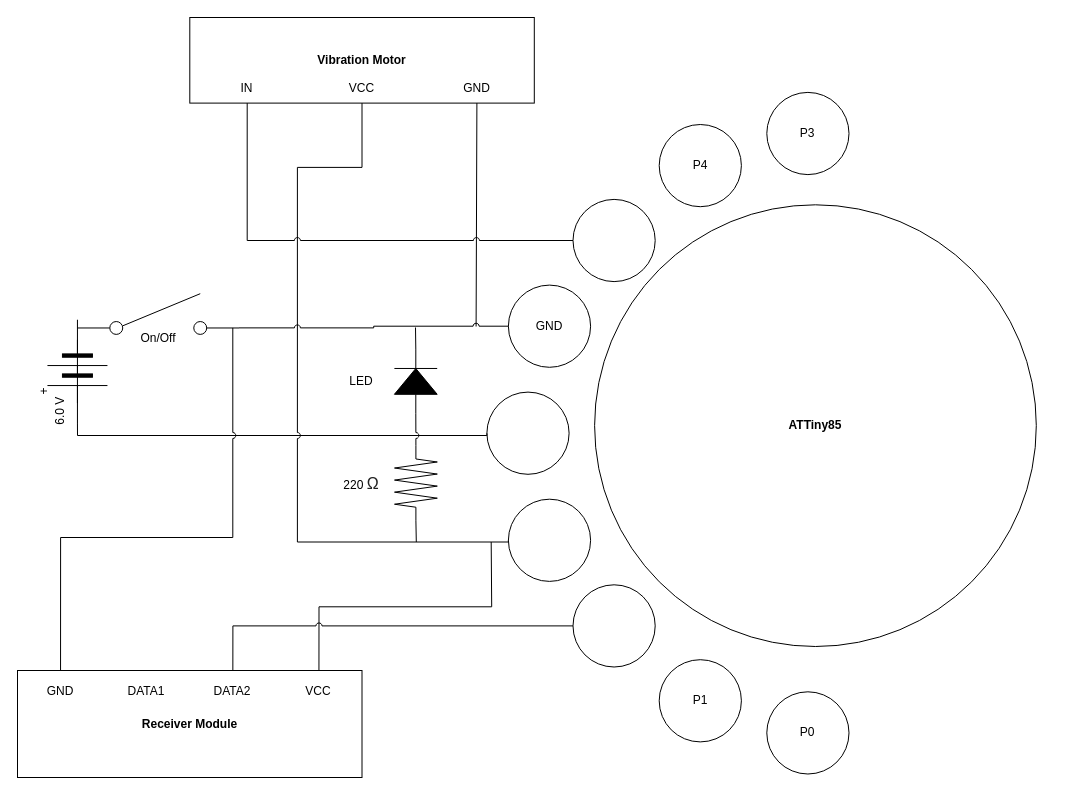
This 1075x795 diagram has some shape labels left out. The centre of each missing label's shape, as x and y in pixels:
5V: the point at 549,539
P2: the point at 613,625
P5: the point at 613,240
VIN: the point at 527,432
